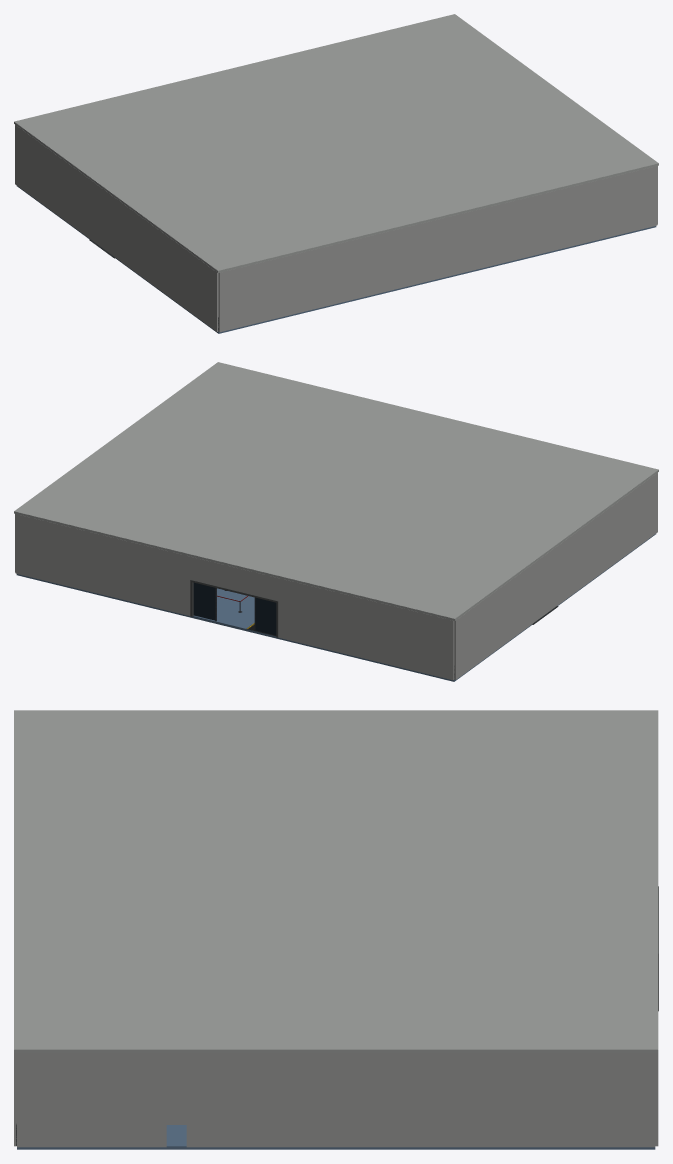
File: reception_r5.glb
3 views of the same model, one above another, from view 1: azimuth 30°, elevation 25°; view 2: azimuth 150°, elevation 25°; view 3: azimuth 270°, elevation 25° (orthographic). The views are drawn at different scales.
Parts seen in each view (by area): view 1: KIT_REC01_Ceiling_Slab, SM_L1_Zone01_Reception_Wall_S_0, SM_L1_Zone01_Reception_Wall_W_0, SM_L1_Zone01_Reception_Floor; view 2: KIT_REC01_Ceiling_Slab, SM_L1_Zone01_Reception_Wall_W_0, SM_L1_Zone01_Reception_Wall_N_0, SM_L1_Zone01_Reception_Wall_N_2, SM_L1_Zone01_Reception_Floor, SM_L1_Zone01_Reception_Wall_N_1, KIT_REC01_Entrance_Glass_R, KIT_REC01_Entrance_Glass_L; view 3: KIT_REC01_Ceiling_Slab, SM_L1_Zone01_Reception_Wall_E_2, SM_L1_Zone01_Reception_Wall_E_0, SM_L1_Zone01_Reception_Floor, SM_L1_Zone01_Reception_Wall_E_1.
Part boxes in pixels (box(x1,y1,x2,y2)): KIT_REC01_Ceiling_Slab: box(14, 14, 658, 272); SM_L1_Zone01_Reception_Wall_S_0: box(218, 166, 657, 332); SM_L1_Zone01_Reception_Wall_W_0: box(15, 125, 218, 331); SM_L1_Zone01_Reception_Floor: box(17, 186, 656, 333); KIT_REC01_Ceiling_Slab: box(14, 362, 658, 620); SM_L1_Zone01_Reception_Wall_W_0: box(454, 473, 657, 679); SM_L1_Zone01_Reception_Wall_N_0: box(278, 578, 454, 680); SM_L1_Zone01_Reception_Wall_N_2: box(15, 514, 190, 615); SM_L1_Zone01_Reception_Floor: box(16, 534, 655, 681); SM_L1_Zone01_Reception_Wall_N_1: box(190, 557, 278, 600); KIT_REC01_Entrance_Glass_R: box(193, 582, 215, 620); KIT_REC01_Entrance_Glass_L: box(255, 598, 276, 635); KIT_REC01_Ceiling_Slab: box(14, 710, 658, 1053); SM_L1_Zone01_Reception_Wall_E_2: box(186, 1053, 655, 1147); SM_L1_Zone01_Reception_Wall_E_0: box(17, 1053, 166, 1147); SM_L1_Zone01_Reception_Floor: box(17, 1125, 655, 1149); SM_L1_Zone01_Reception_Wall_E_1: box(166, 1053, 186, 1124).
Size of the model in its own units: 40.45 by 5.6 by 32.34.
Materials: 34 (17 with a texture image).
